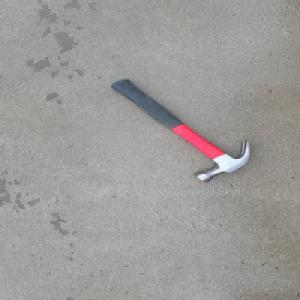Hammer: (110, 79, 252, 183)
